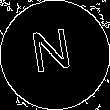N_S: (31, 27, 79, 83)
